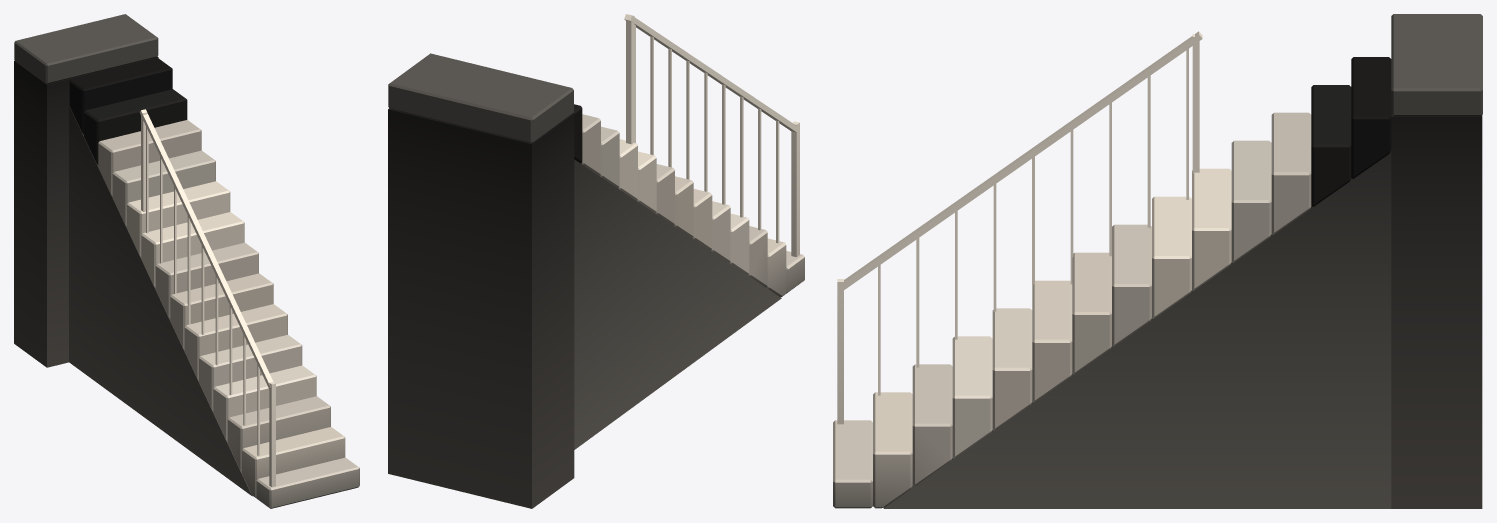
The model's file is SM_VKI_Stair_Up_150x450_StoneL.fbx.
3 renders of one model, left to right at view 1: azimuth 30°, elevation 25°; view 2: azimuth 150°, elevation 25°; view 3: azimuth 270°, elevation 25°, orthographic. The views are drawn at different scales.
Parts seen in each view (by area): view 1: SM_VKI_Stair_Up_150x450_StoneL.001; view 2: SM_VKI_Stair_Up_150x450_StoneL.001; view 3: SM_VKI_Stair_Up_150x450_StoneL.001.
Boxes of the visible parts, box(x1,y1,x2,y2) form: SM_VKI_Stair_Up_150x450_StoneL.001: box(14, 14, 359, 508); SM_VKI_Stair_Up_150x450_StoneL.001: box(388, 14, 804, 508); SM_VKI_Stair_Up_150x450_StoneL.001: box(833, 14, 1482, 508).
Size of the model in its own units: 1.17 by 3.01 by 4.22.
